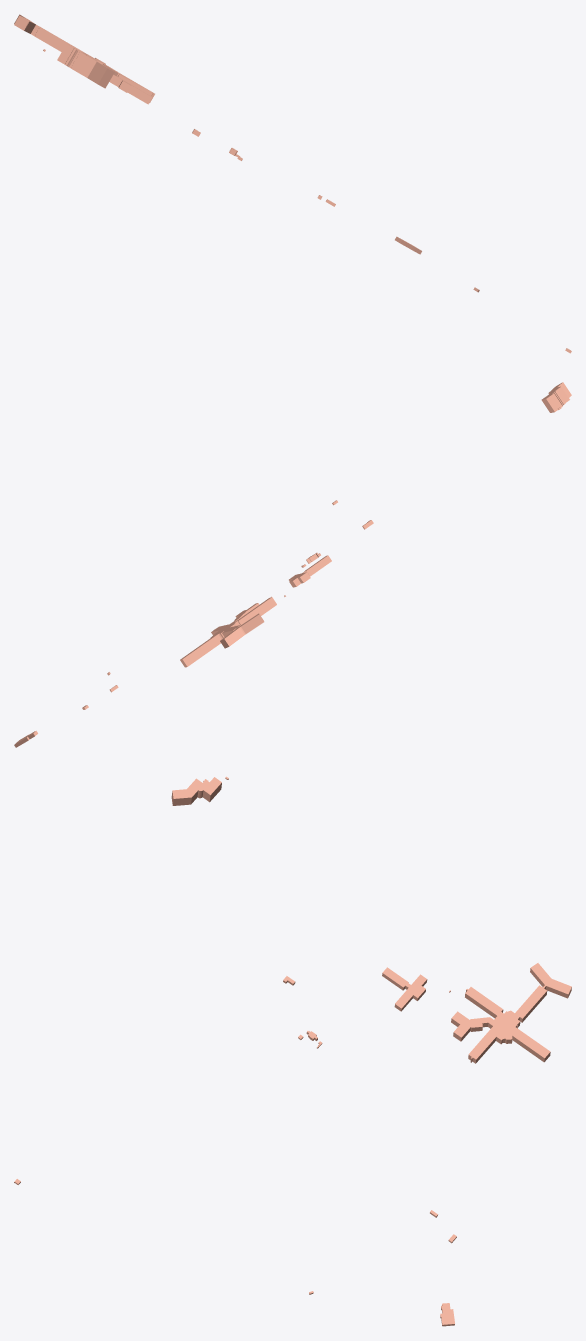
3 views of the same model, one above another, from view 1: azimuth 30°, elevation 25°; view 2: azimuth 150°, elevation 25°; view 3: azimuth 270°, elevation 25° (orthographic). The views are drawn at different scales.
Bounding box in the file's own units: 669 × 542 × 776.
